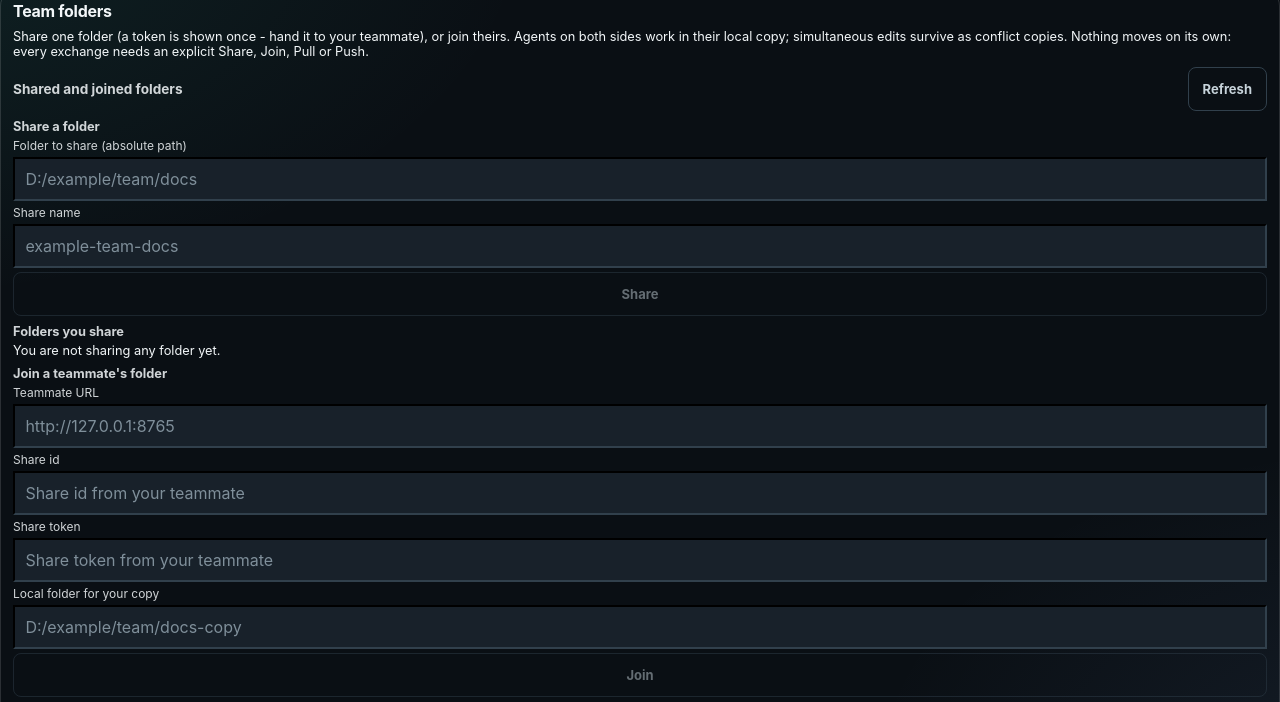
it: TeamFoldersPanel › does not promise a one-time token when the share receipt contains none
This screenshot has width=1280, height=702.
Expected: the text "You are not sharing any folder yet." is shown, [13,343,220,358]
Type "D:/example/team/new" into the field labelled "Folder to share (absolute path)".
click(640, 179); type("D:/example/team/new")  # box [13,157,1267,201]
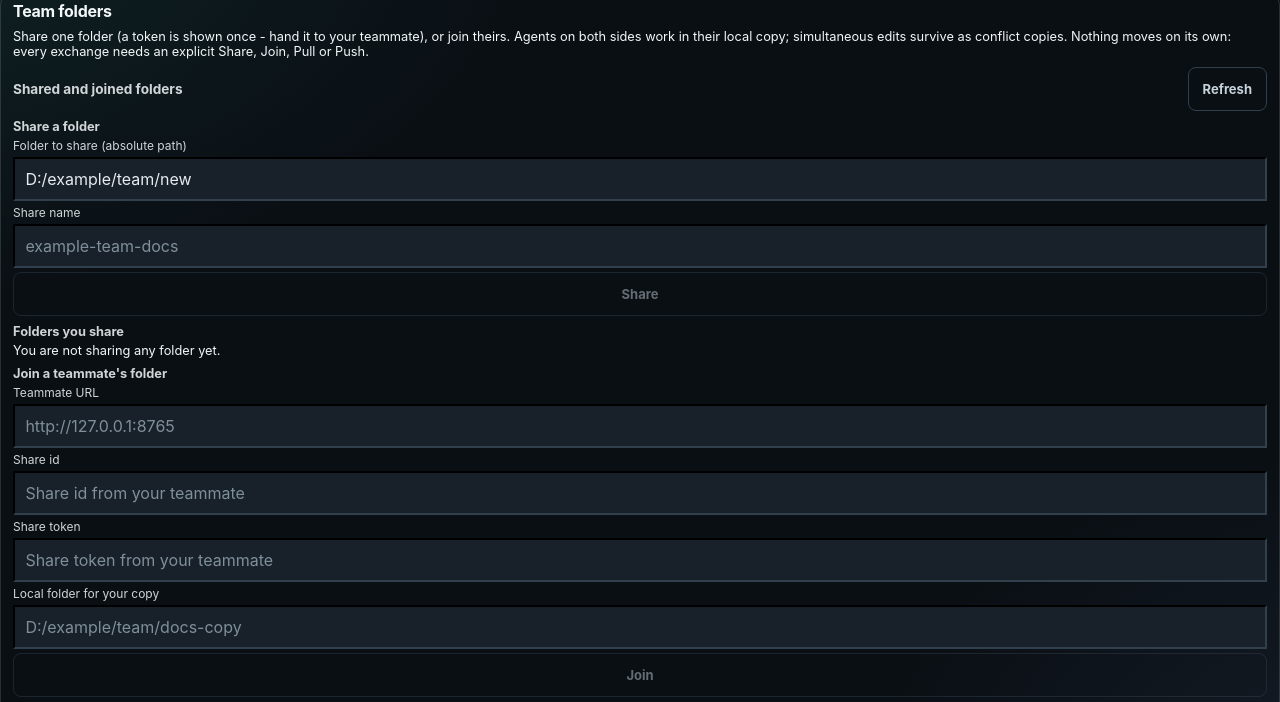
Type "example-new-share" into the field labelled "Share name".
click(640, 246); type("example-new-share")  # box [13,224,1267,268]
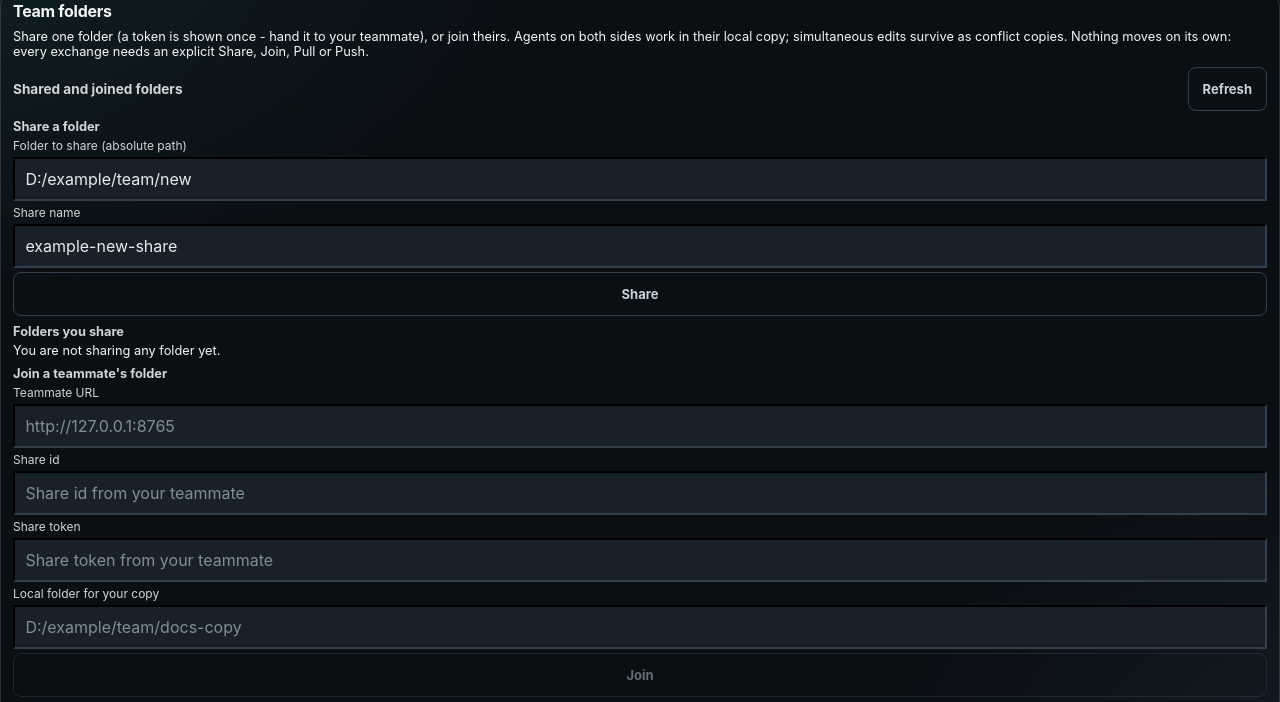
Click the button "Share".
click(640, 294)  # box [13,272,1267,316]
(page scrolled)
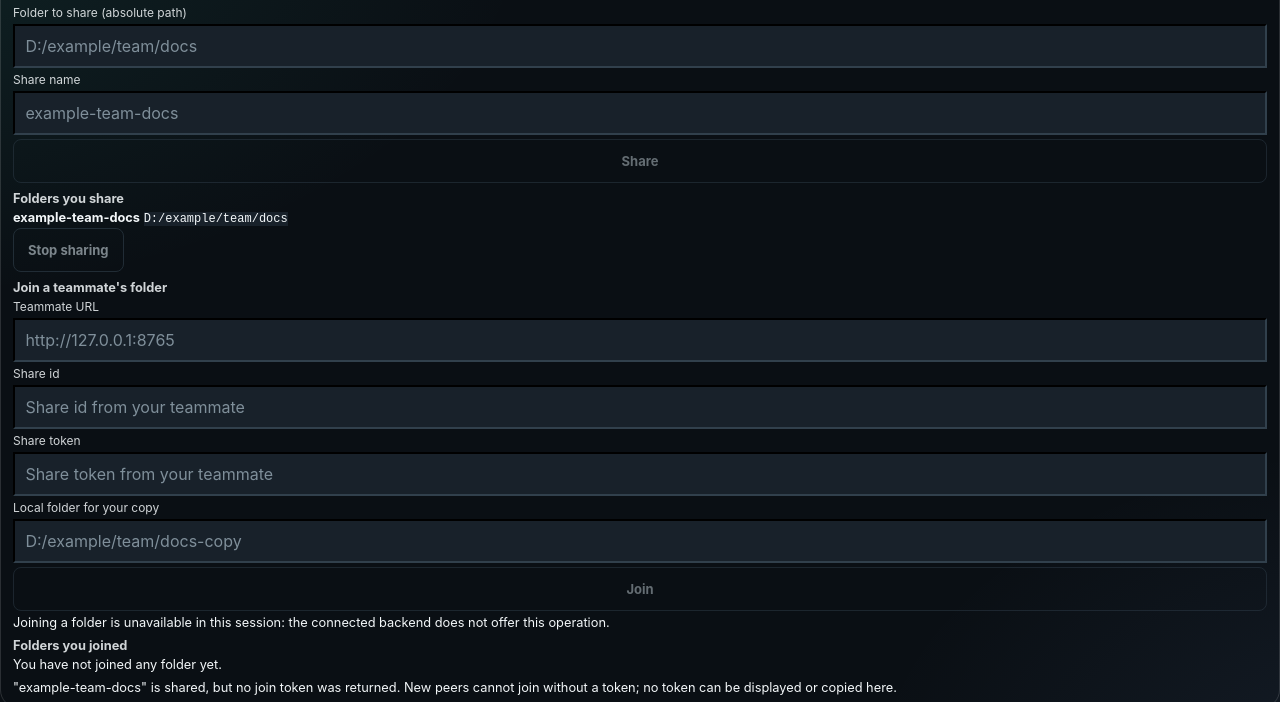
Result: the text "no join token was returned" is shown at [13,680,897,695]
